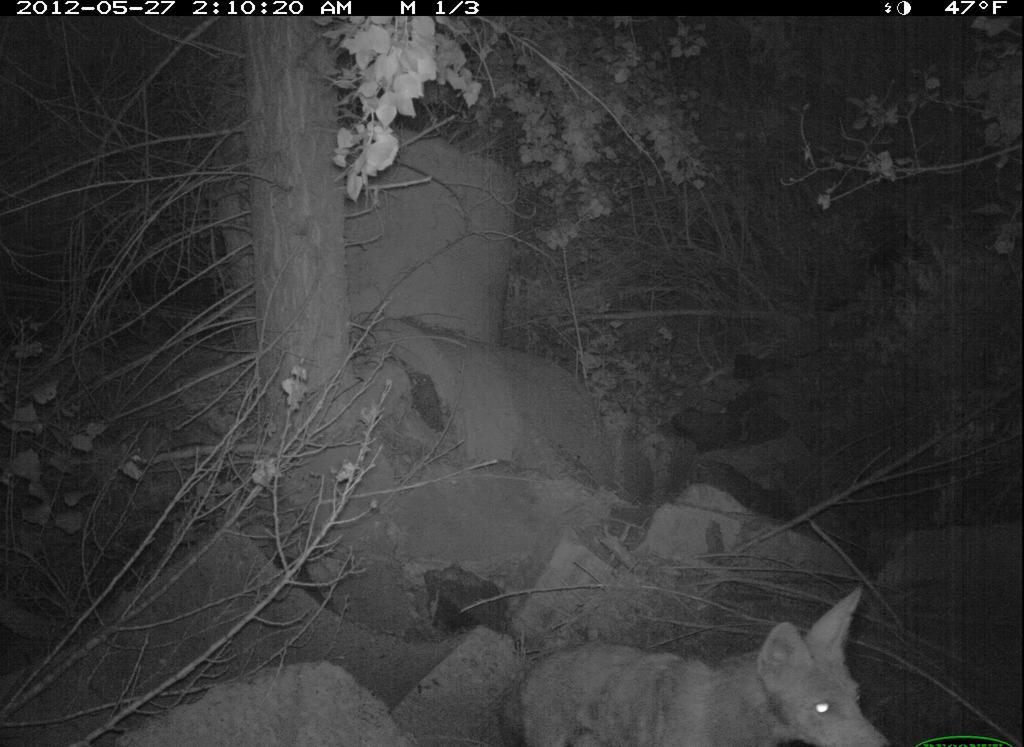coyote: (498, 574, 905, 747)
